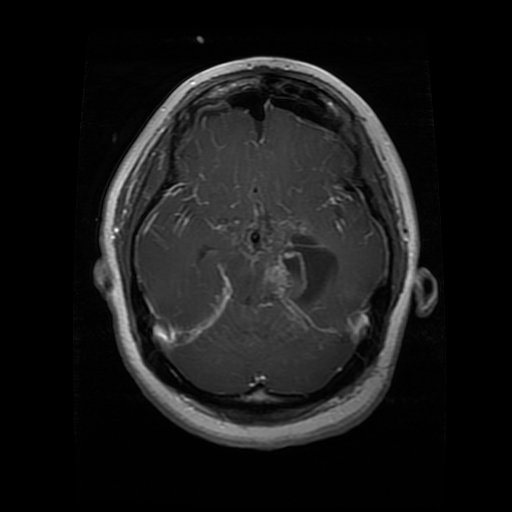glioma: (228, 218, 347, 318)
